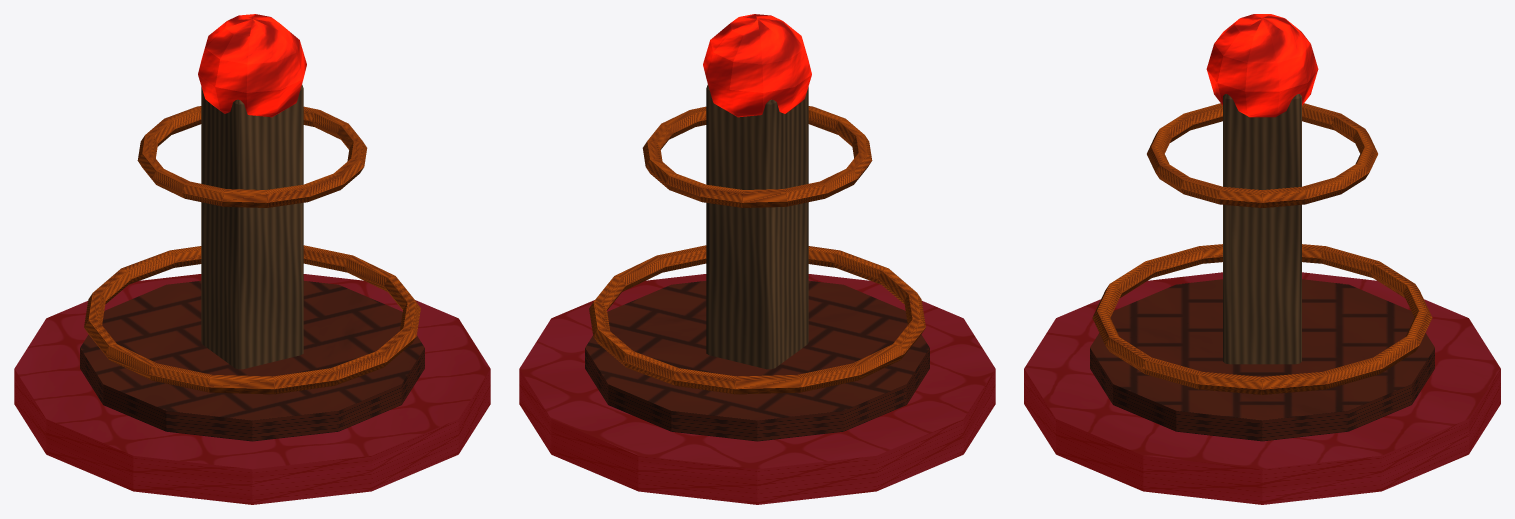
The model's file is SM_FC_AbsorbShrine.glb.
3 renders of one model, left to right at view 1: azimuth 30°, elevation 25°; view 2: azimuth 150°, elevation 25°; view 3: azimuth 270°, elevation 25°, orthographic.
Parts seen in each view (by area): view 1: SM_FC_AbsorbShrine; view 2: SM_FC_AbsorbShrine; view 3: SM_FC_AbsorbShrine.
Boxes of the visible parts, bbox=[...] form: SM_FC_AbsorbShrine: bbox=[14, 14, 490, 504]; SM_FC_AbsorbShrine: bbox=[519, 14, 995, 504]; SM_FC_AbsorbShrine: bbox=[1024, 14, 1500, 504].
Bounding box in the file's own units: 2.9 × 2.59 × 2.9.
5 materials, 5 textured.
